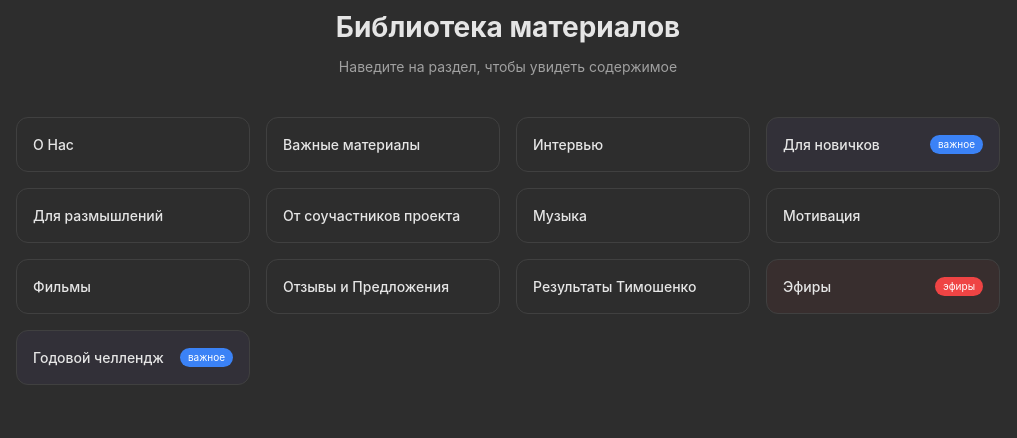
Test: EventsHub › shows feedback section when hovering over Отзывы и Предложения
Hover over the text "Отзывы и Предложения" at (366, 286), box [283,276,449,297]
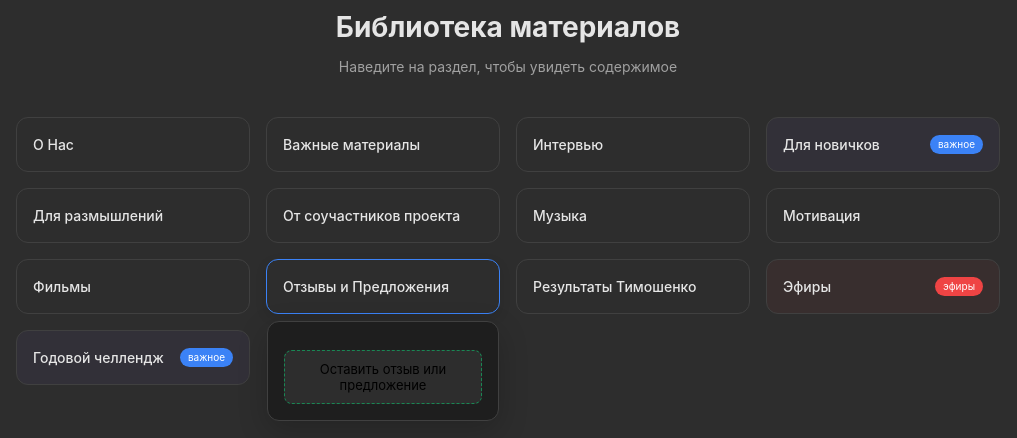
Result: the button "Оставить отзыв или предложение" is shown at [284,350,482,404]
